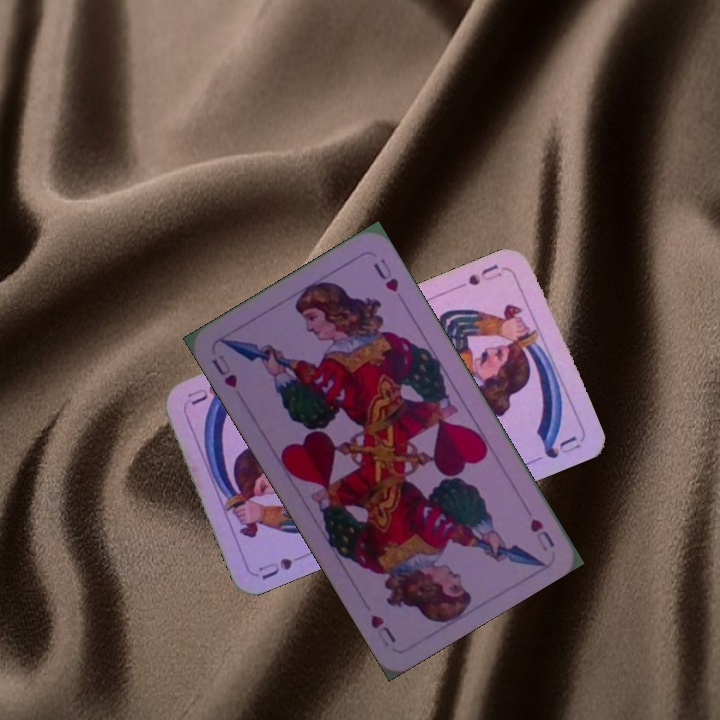HU: (525, 514, 558, 554), (208, 350, 240, 391)
SU: (254, 548, 311, 583), (464, 260, 504, 288)
